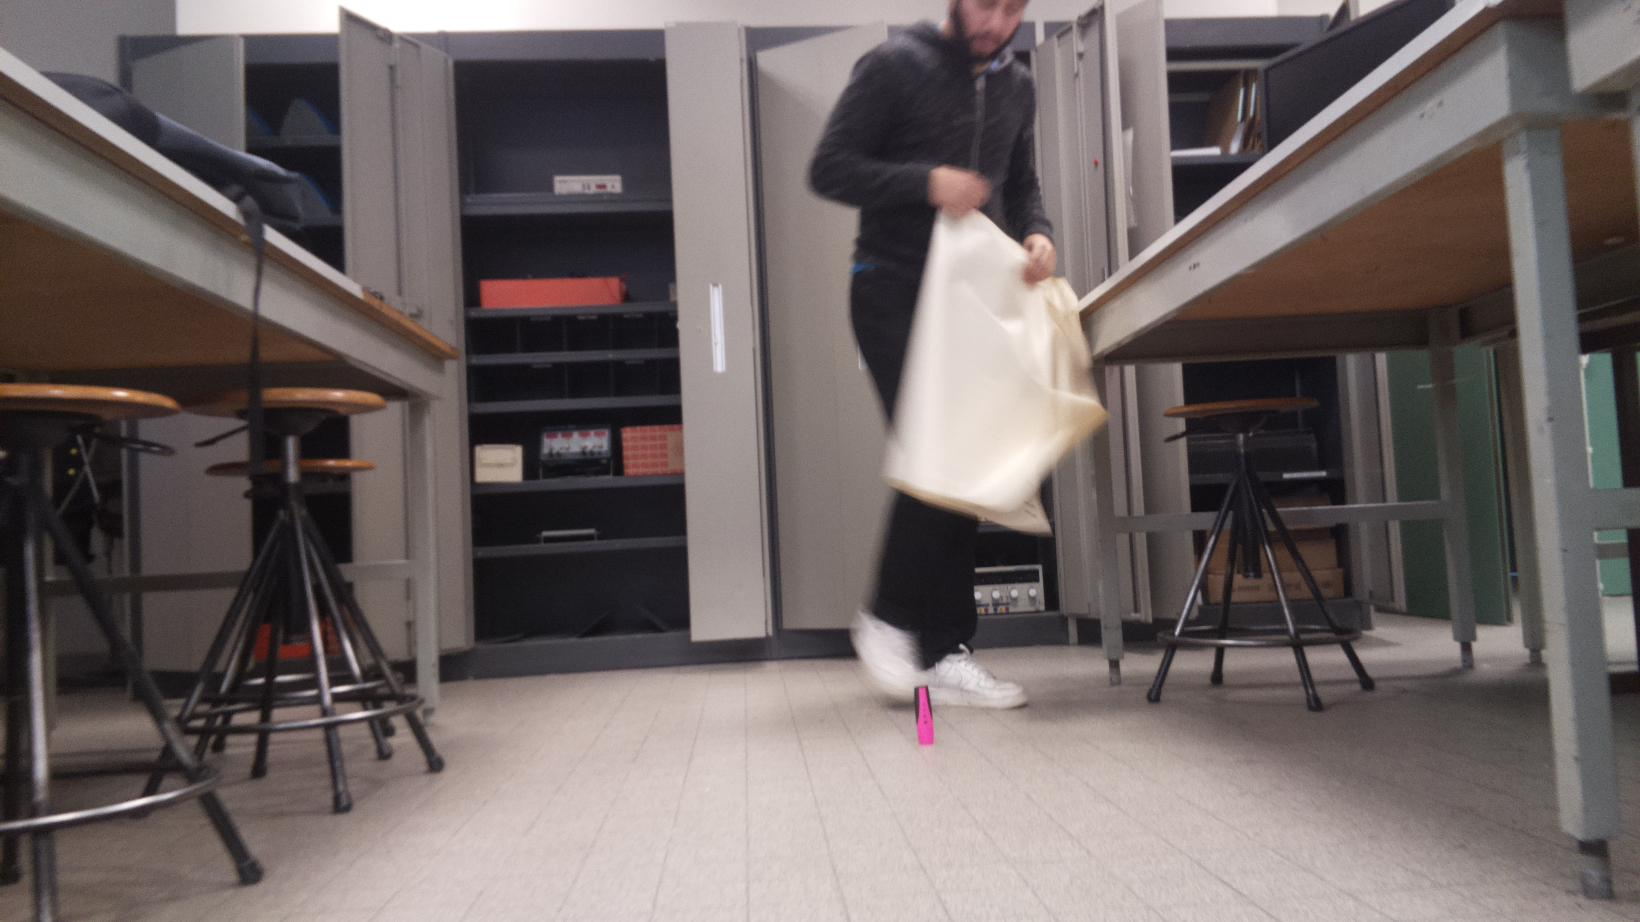small: (912, 684, 937, 746)
